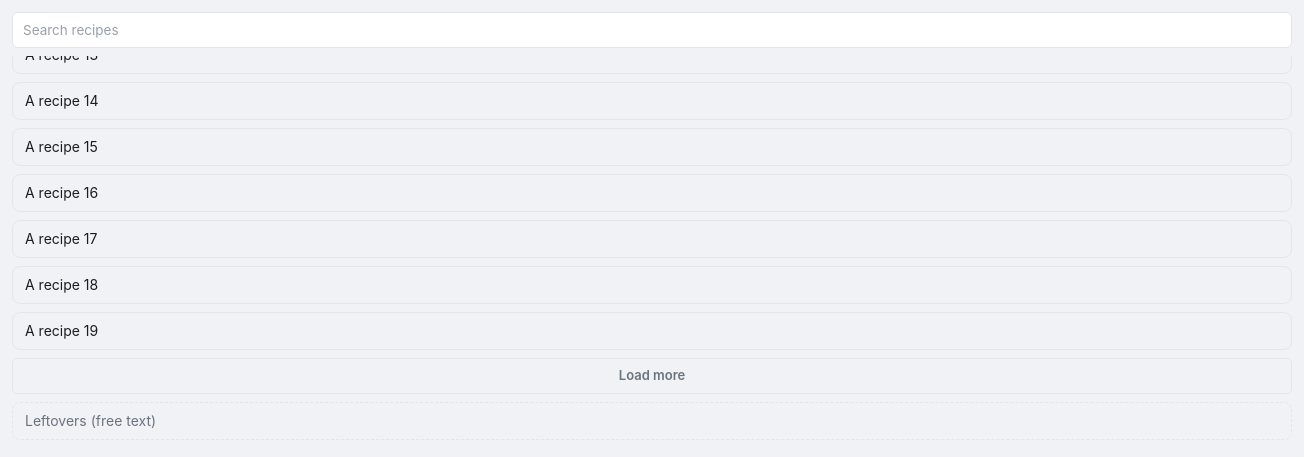
Test: RecipePicker › offers "Load more" while matches remain and tells when nothing matches
The image size is (1304, 457).
(page scrolled)
Click the button "Load more". click: (652, 376)
box: x1=12 y1=358 x2=1292 y2=394
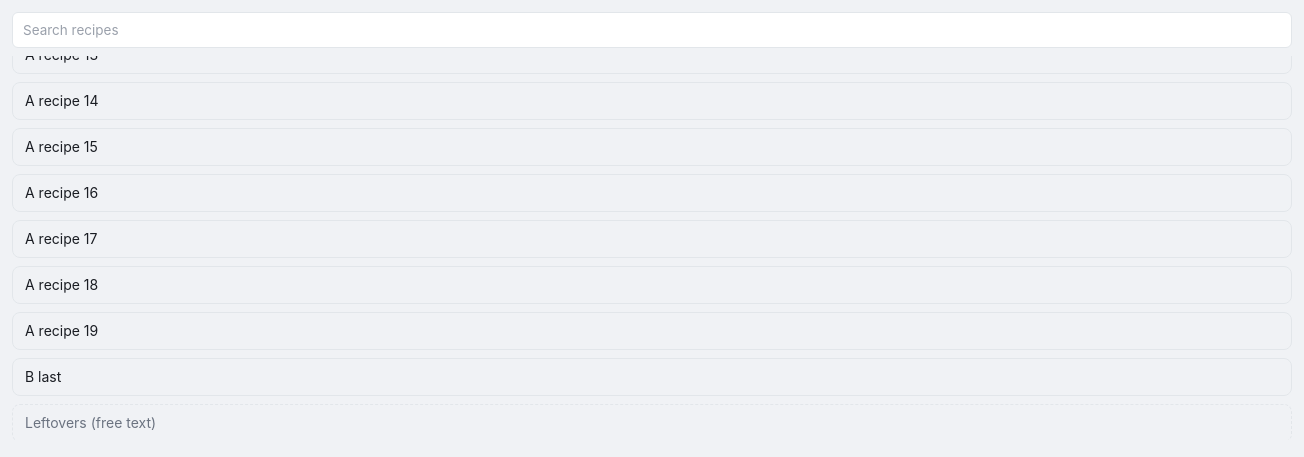
Expected: the button "B last" is shown, x1=12 y1=358 x2=1292 y2=396
Expected: the button "Load more" is gone
Type "zzz" into the search field labelled "Search recipes". click: (652, 30)
box: x1=12 y1=12 x2=1292 y2=48
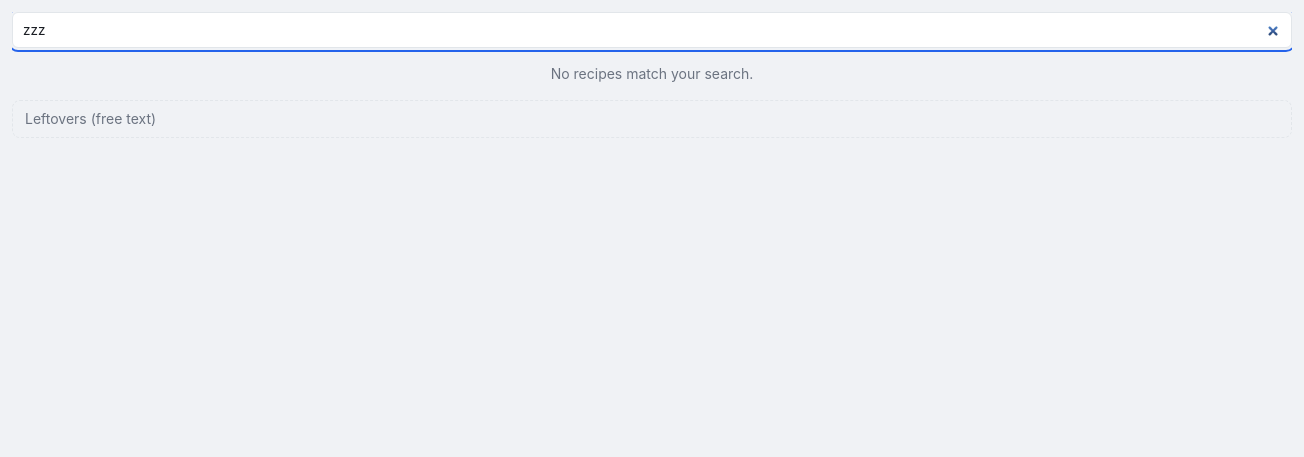
Expected: the text "No recipes match your search." is shown, x1=551 y1=65 x2=753 y2=82
